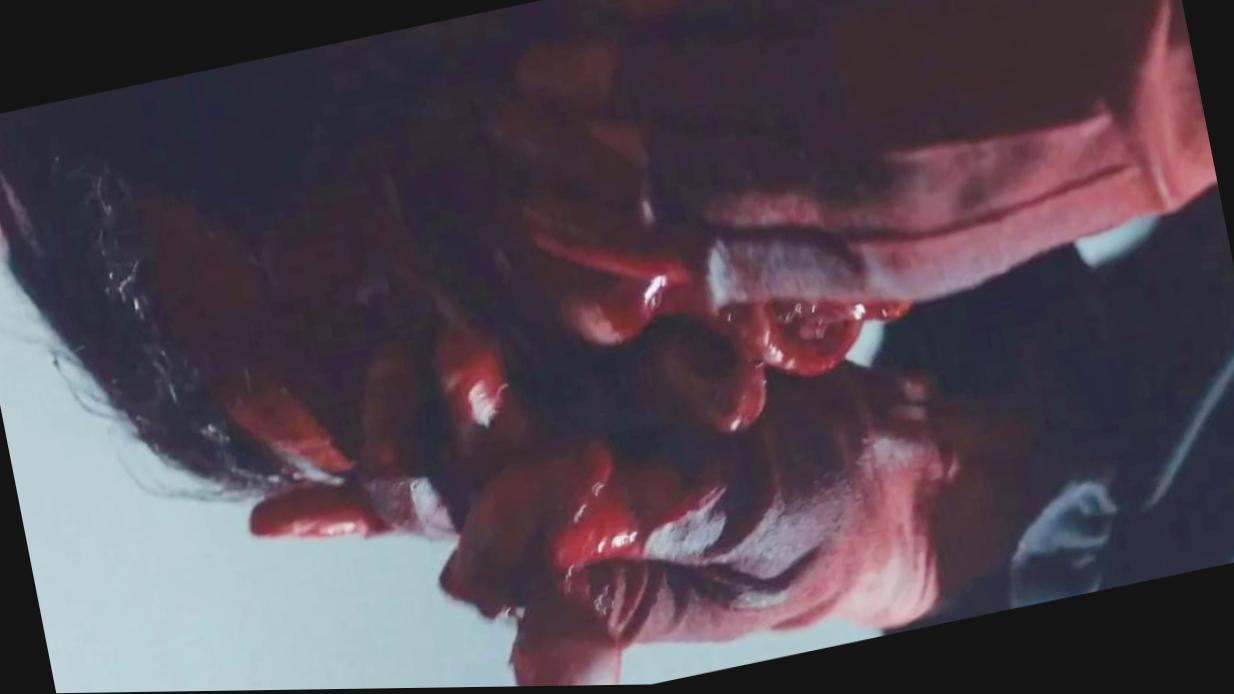Fire: (232, 0, 1217, 688)
